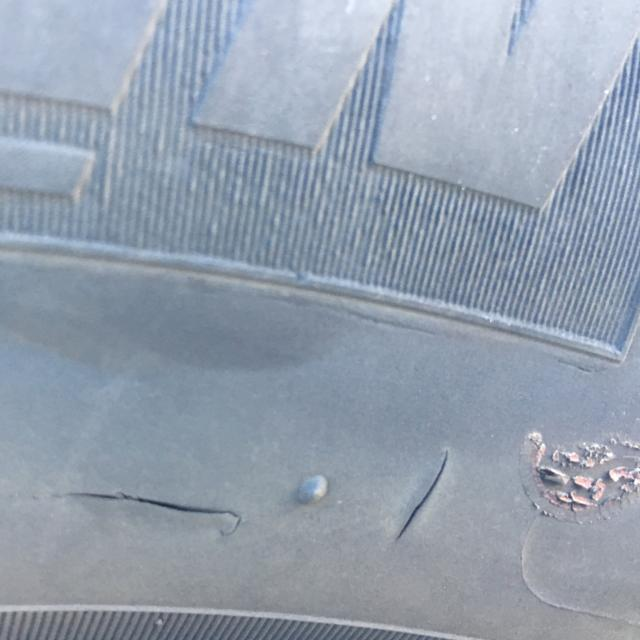Cracks: (44, 474, 268, 542), (378, 440, 470, 567)
